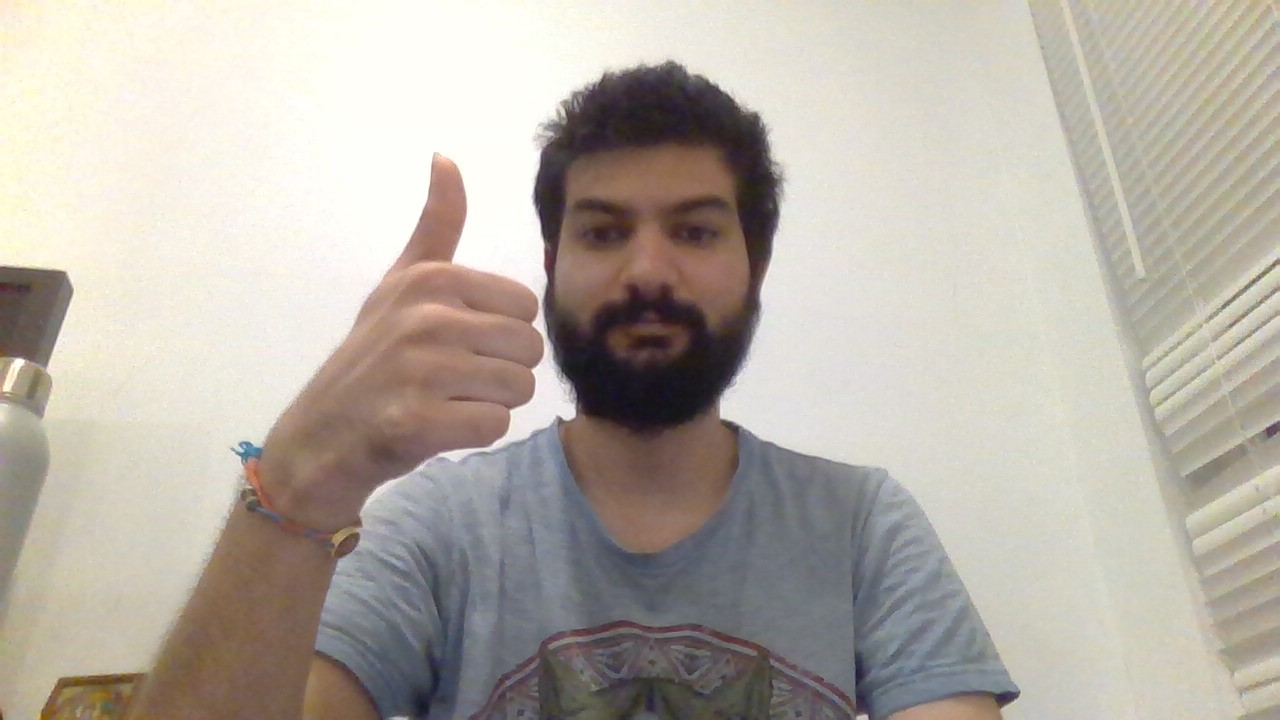up: (333, 148, 554, 454)
